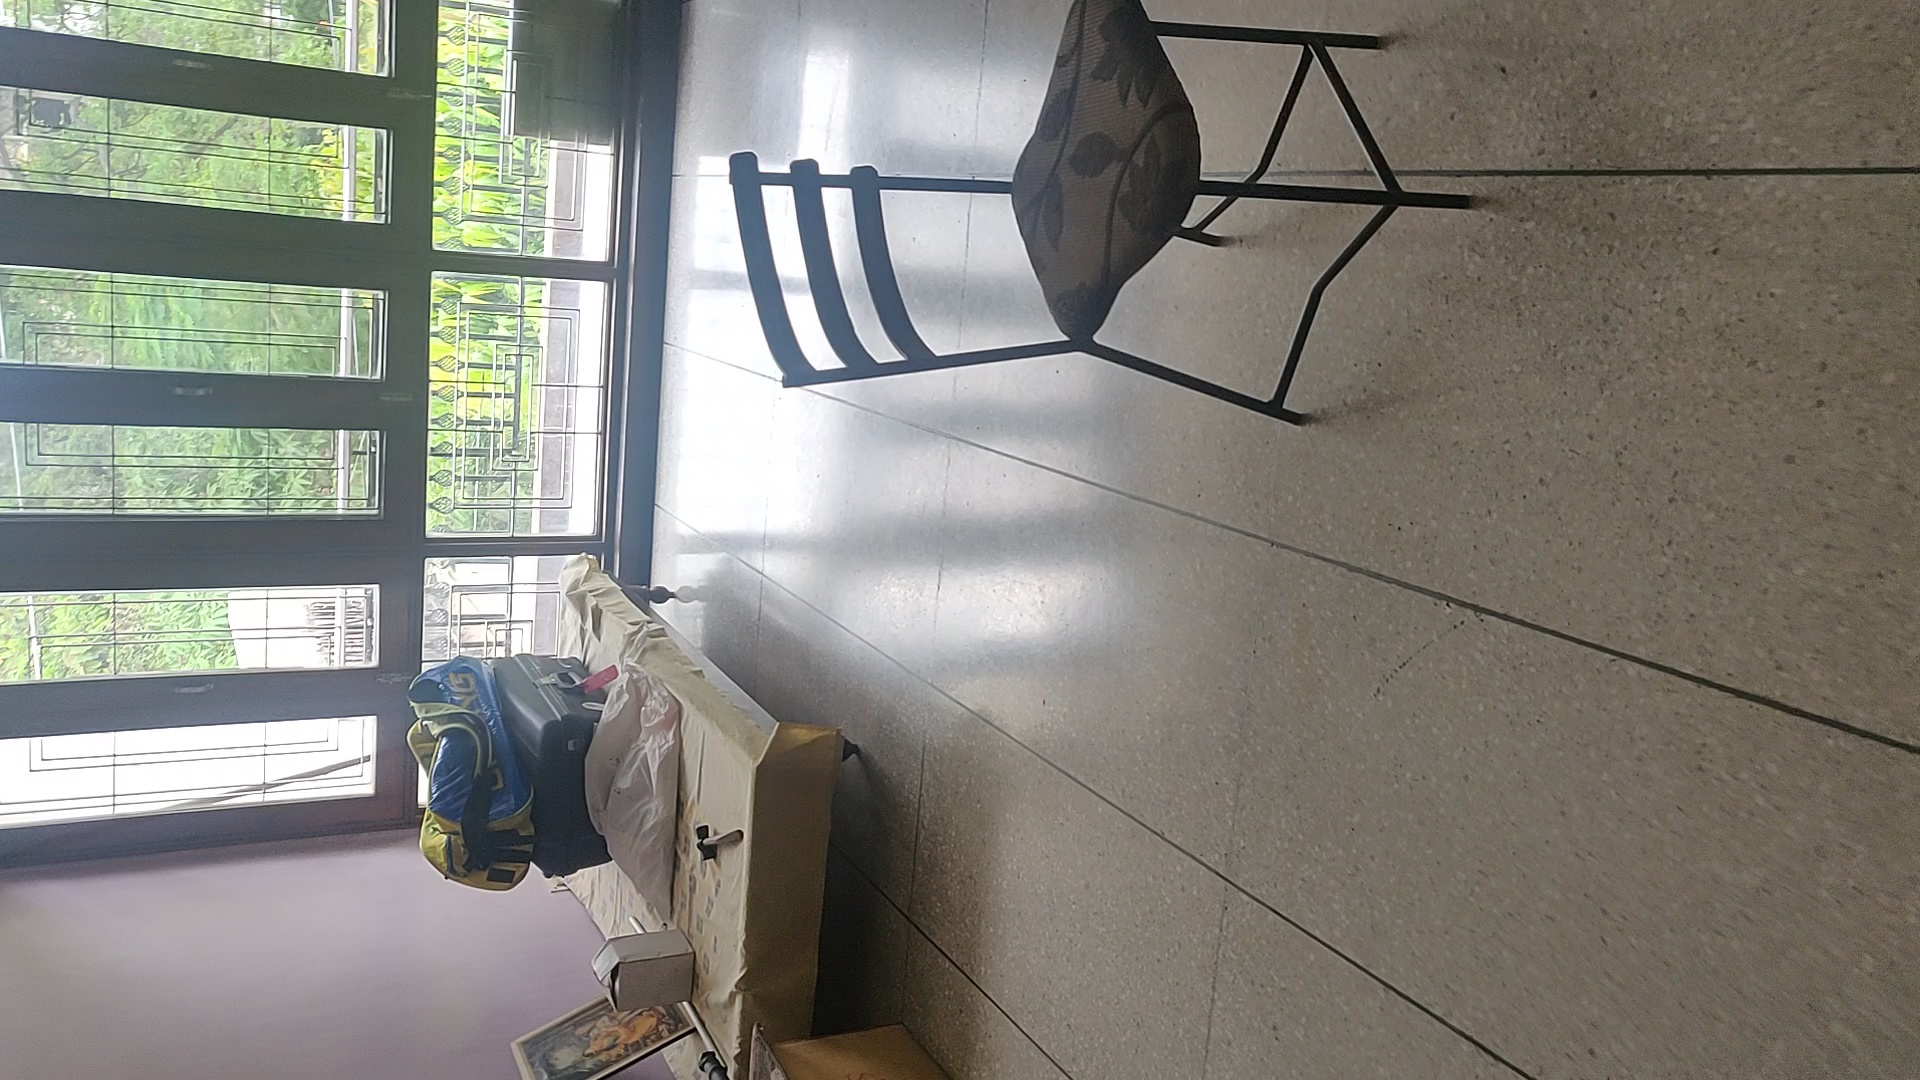hammer: (694, 822, 742, 862)
